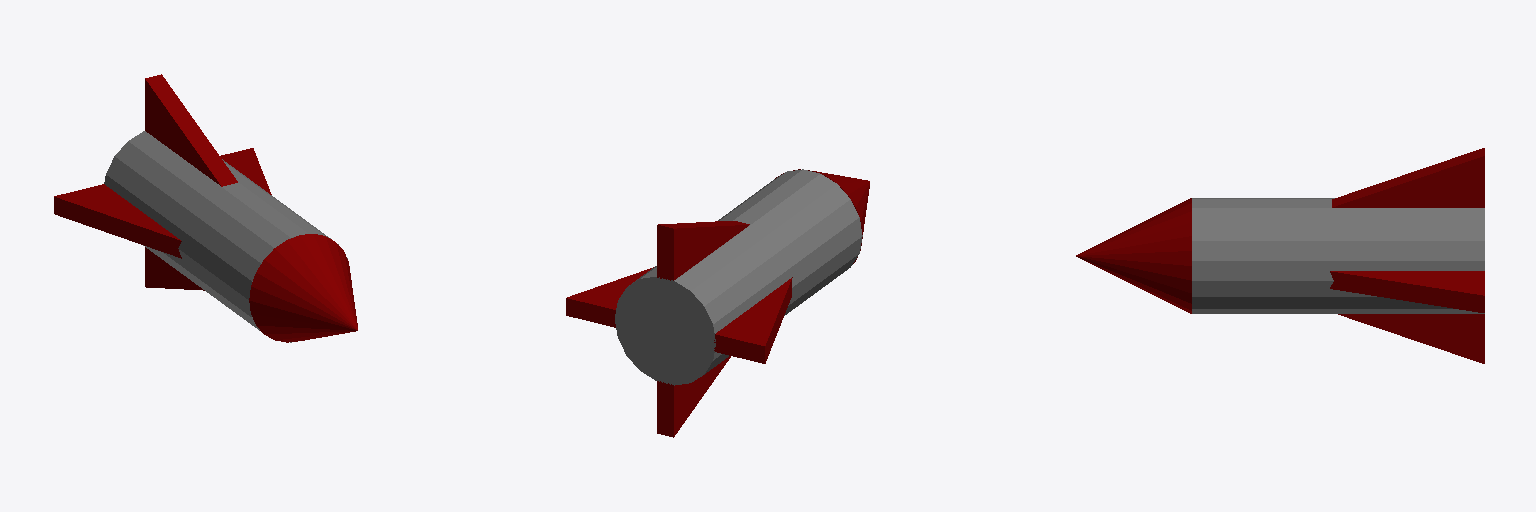
Rendered from rocket_opt_2.obj.
3 views of the same model, side by side, from view 1: azimuth 30°, elevation 25°; view 2: azimuth 150°, elevation 25°; view 3: azimuth 270°, elevation 25° (orthographic).
Visible parts, largest first — view 1: Body, Cone001, Prism001, Prism004, Prism003, Prism002; view 2: Body, Prism001, Prism004, Prism003, Prism002, Cone001; view 3: Body, Cone001, Prism004, Prism002, Prism003.
Part boxes in pixels (bbox=[...]): Body: bbox=[104, 131, 347, 342]; Cone001: bbox=[249, 234, 357, 342]; Prism001: bbox=[54, 184, 181, 258]; Prism004: bbox=[145, 74, 237, 186]; Prism003: bbox=[145, 247, 204, 290]; Prism002: bbox=[220, 148, 271, 194]; Body: bbox=[615, 169, 862, 385]; Prism001: bbox=[714, 277, 792, 363]; Prism004: bbox=[657, 221, 749, 280]; Prism003: bbox=[657, 356, 730, 437]; Prism002: bbox=[566, 267, 653, 327]; Cone001: bbox=[775, 169, 869, 263]; Body: bbox=[1192, 198, 1484, 313]; Cone001: bbox=[1076, 198, 1191, 313]; Prism004: bbox=[1332, 148, 1484, 207]; Prism002: bbox=[1330, 271, 1484, 312]; Prism003: bbox=[1338, 314, 1484, 363].
Size of the model in its own units: 11.8 by 11.8 by 21.